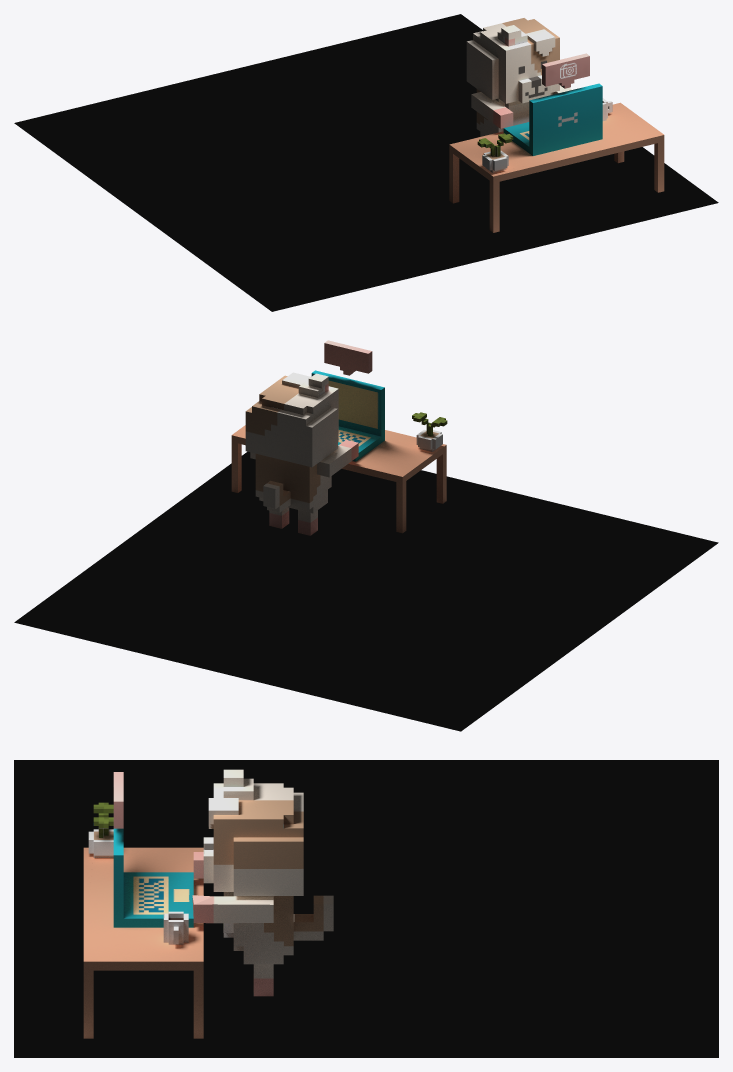
File: dog_new.glb
3 views of the same model, one above another, from view 1: azimuth 30°, elevation 25°; view 2: azimuth 150°, elevation 25°; view 3: azimuth 270°, elevation 25° (orthographic). The views are drawn at different scales.
Parts seen in each view (by area): view 1: main; view 2: main; view 3: main.
Boxes of the visible parts, left/top/right/bottom form: main: left=14, top=14, right=718, bottom=311; main: left=14, top=340, right=718, bottom=731; main: left=14, top=760, right=718, bottom=1057.
Size of the model in its own units: 14.1 by 4.4 by 14.1.
2 materials, 2 textured.
